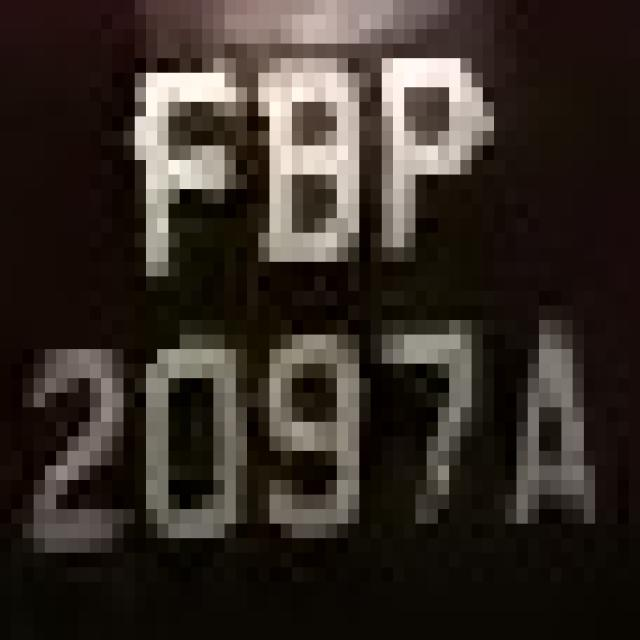0: (135, 305, 258, 553)
2: (11, 320, 135, 611)
7: (370, 320, 483, 553)
9: (247, 305, 382, 582)
A: (472, 349, 628, 567)
B: (236, 44, 370, 320)
F: (101, 44, 236, 320)
P: (359, 29, 494, 262)
